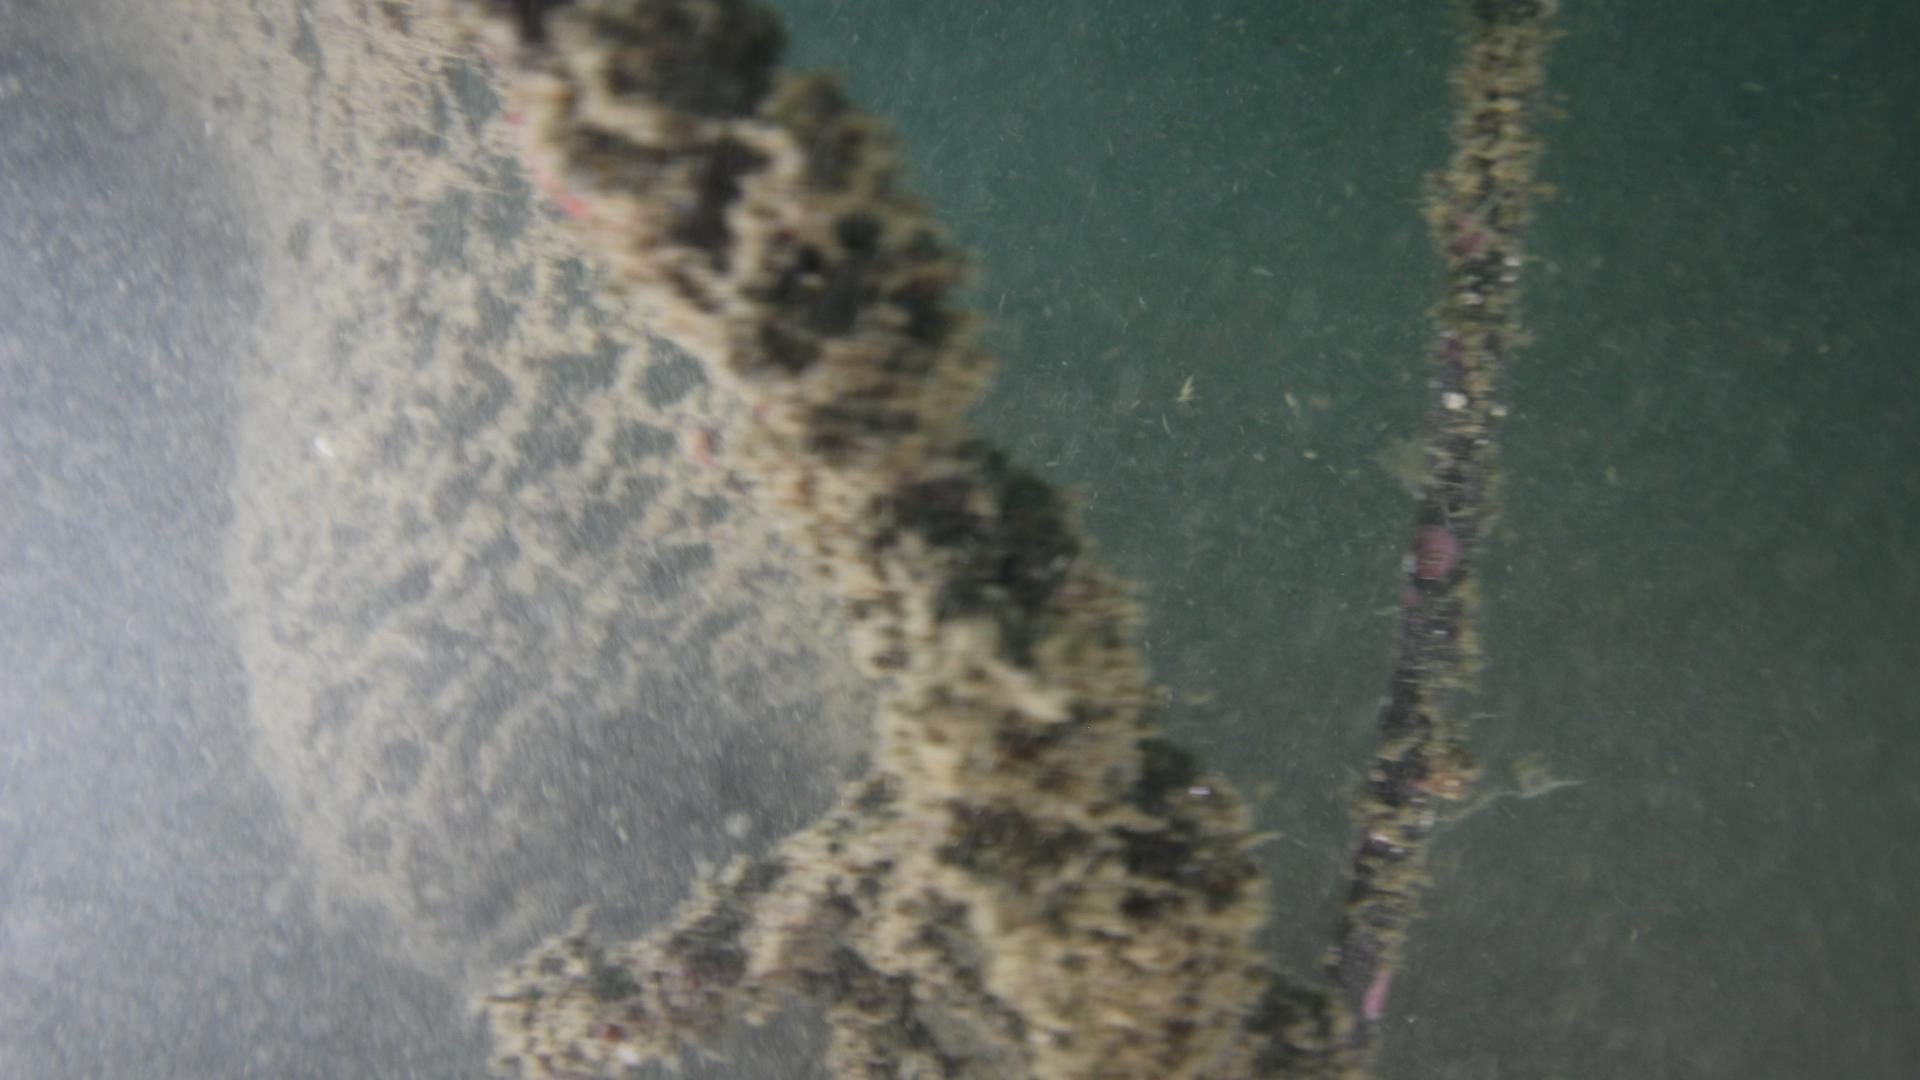fish net: (233, 0, 839, 1000)
